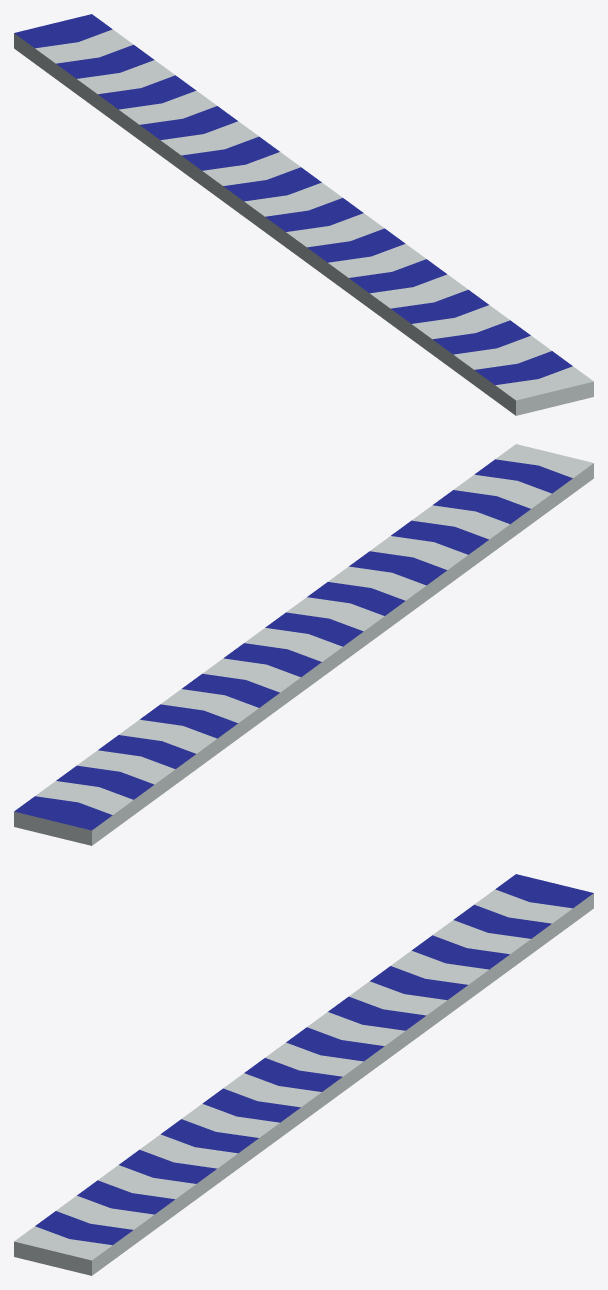
Rendered from Road.fbx.
3 renders of one model, top to bottom at view 1: azimuth 30°, elevation 25°; view 2: azimuth 150°, elevation 25°; view 3: azimuth 330°, elevation 25°, orthographic.
Visible parts, largest first — view 1: Cube; view 2: Cube; view 3: Cube.
Part boxes in pixels (x1=…): Cube: x1=14, y1=14, x2=593, y2=415; Cube: x1=14, y1=444, x2=593, y2=845; Cube: x1=14, y1=874, x2=593, y2=1275.
Size of the model in its own units: 300 by 56.72 by 3347.
